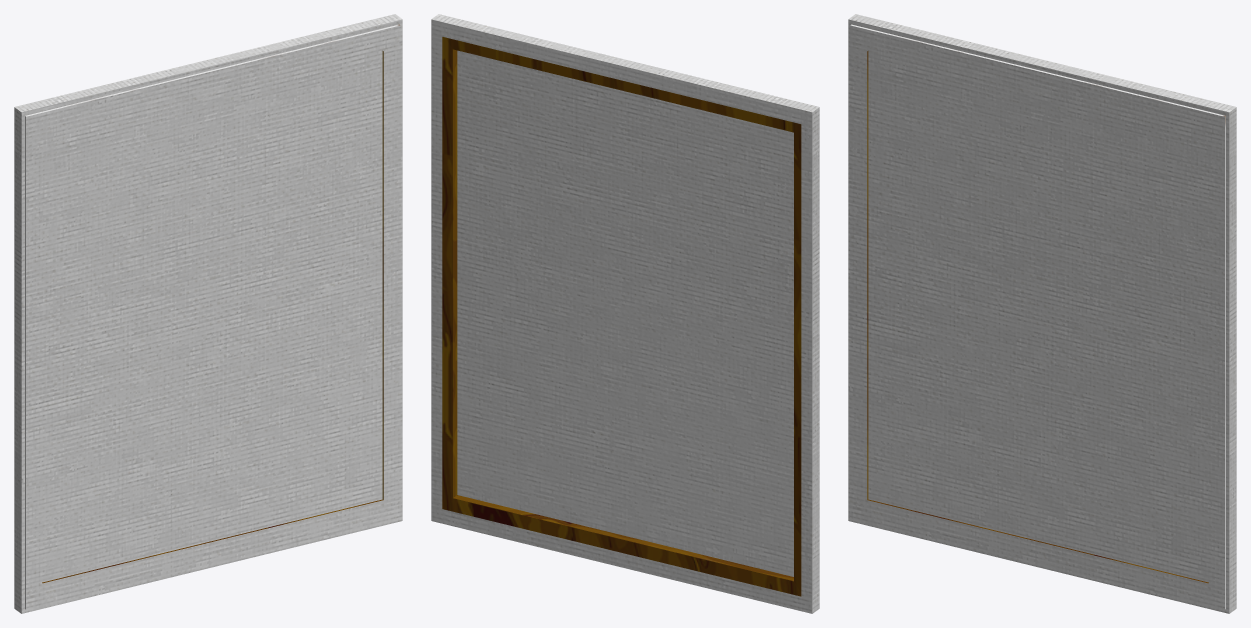
File: painting-t2_dot40.glb
The picture shows the model from 3 angles, left to right: view 1: azimuth 30°, elevation 25°; view 2: azimuth 150°, elevation 25°; view 3: azimuth 330°, elevation 25°; orthographic projection.
Visible parts, largest first — view 1: painting_canvas.002, painting_canvas.001; view 2: painting_canvas.002, painting_canvas.001; view 3: painting_canvas.002, painting_canvas.001.
Boxes of the visible parts, bbox=[...] form: painting_canvas.002: bbox=[14, 14, 402, 613]; painting_canvas.001: bbox=[25, 24, 400, 609]; painting_canvas.002: bbox=[431, 14, 819, 613]; painting_canvas.001: bbox=[442, 37, 801, 596]; painting_canvas.002: bbox=[848, 14, 1236, 613]; painting_canvas.001: bbox=[850, 24, 1225, 609].
Bounding box in the file's own units: 1.27 × 1.59 × 0.0497.
Materials: 2 (2 with a texture image).
